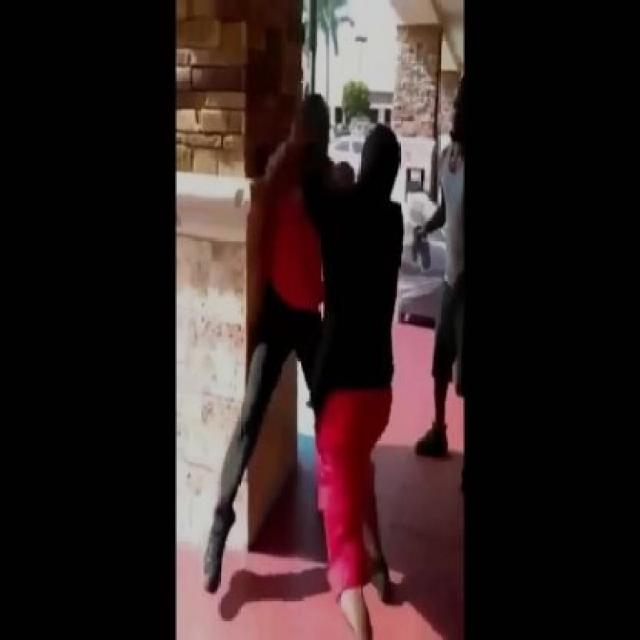fight: (208, 92, 400, 640)
non-fight: (410, 78, 494, 470)
